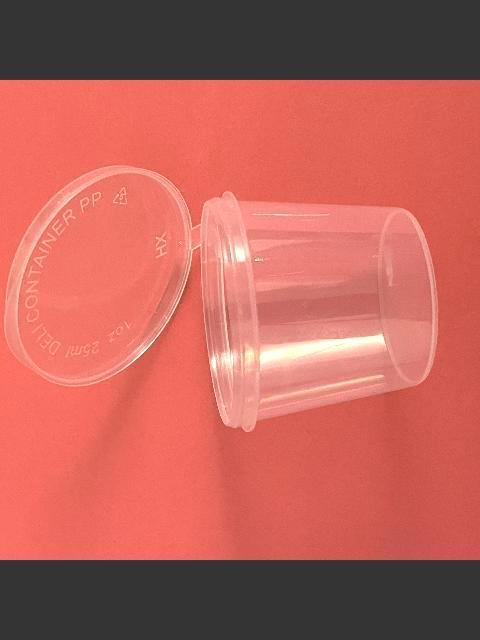plasticcontainer: (1, 164, 440, 434)
